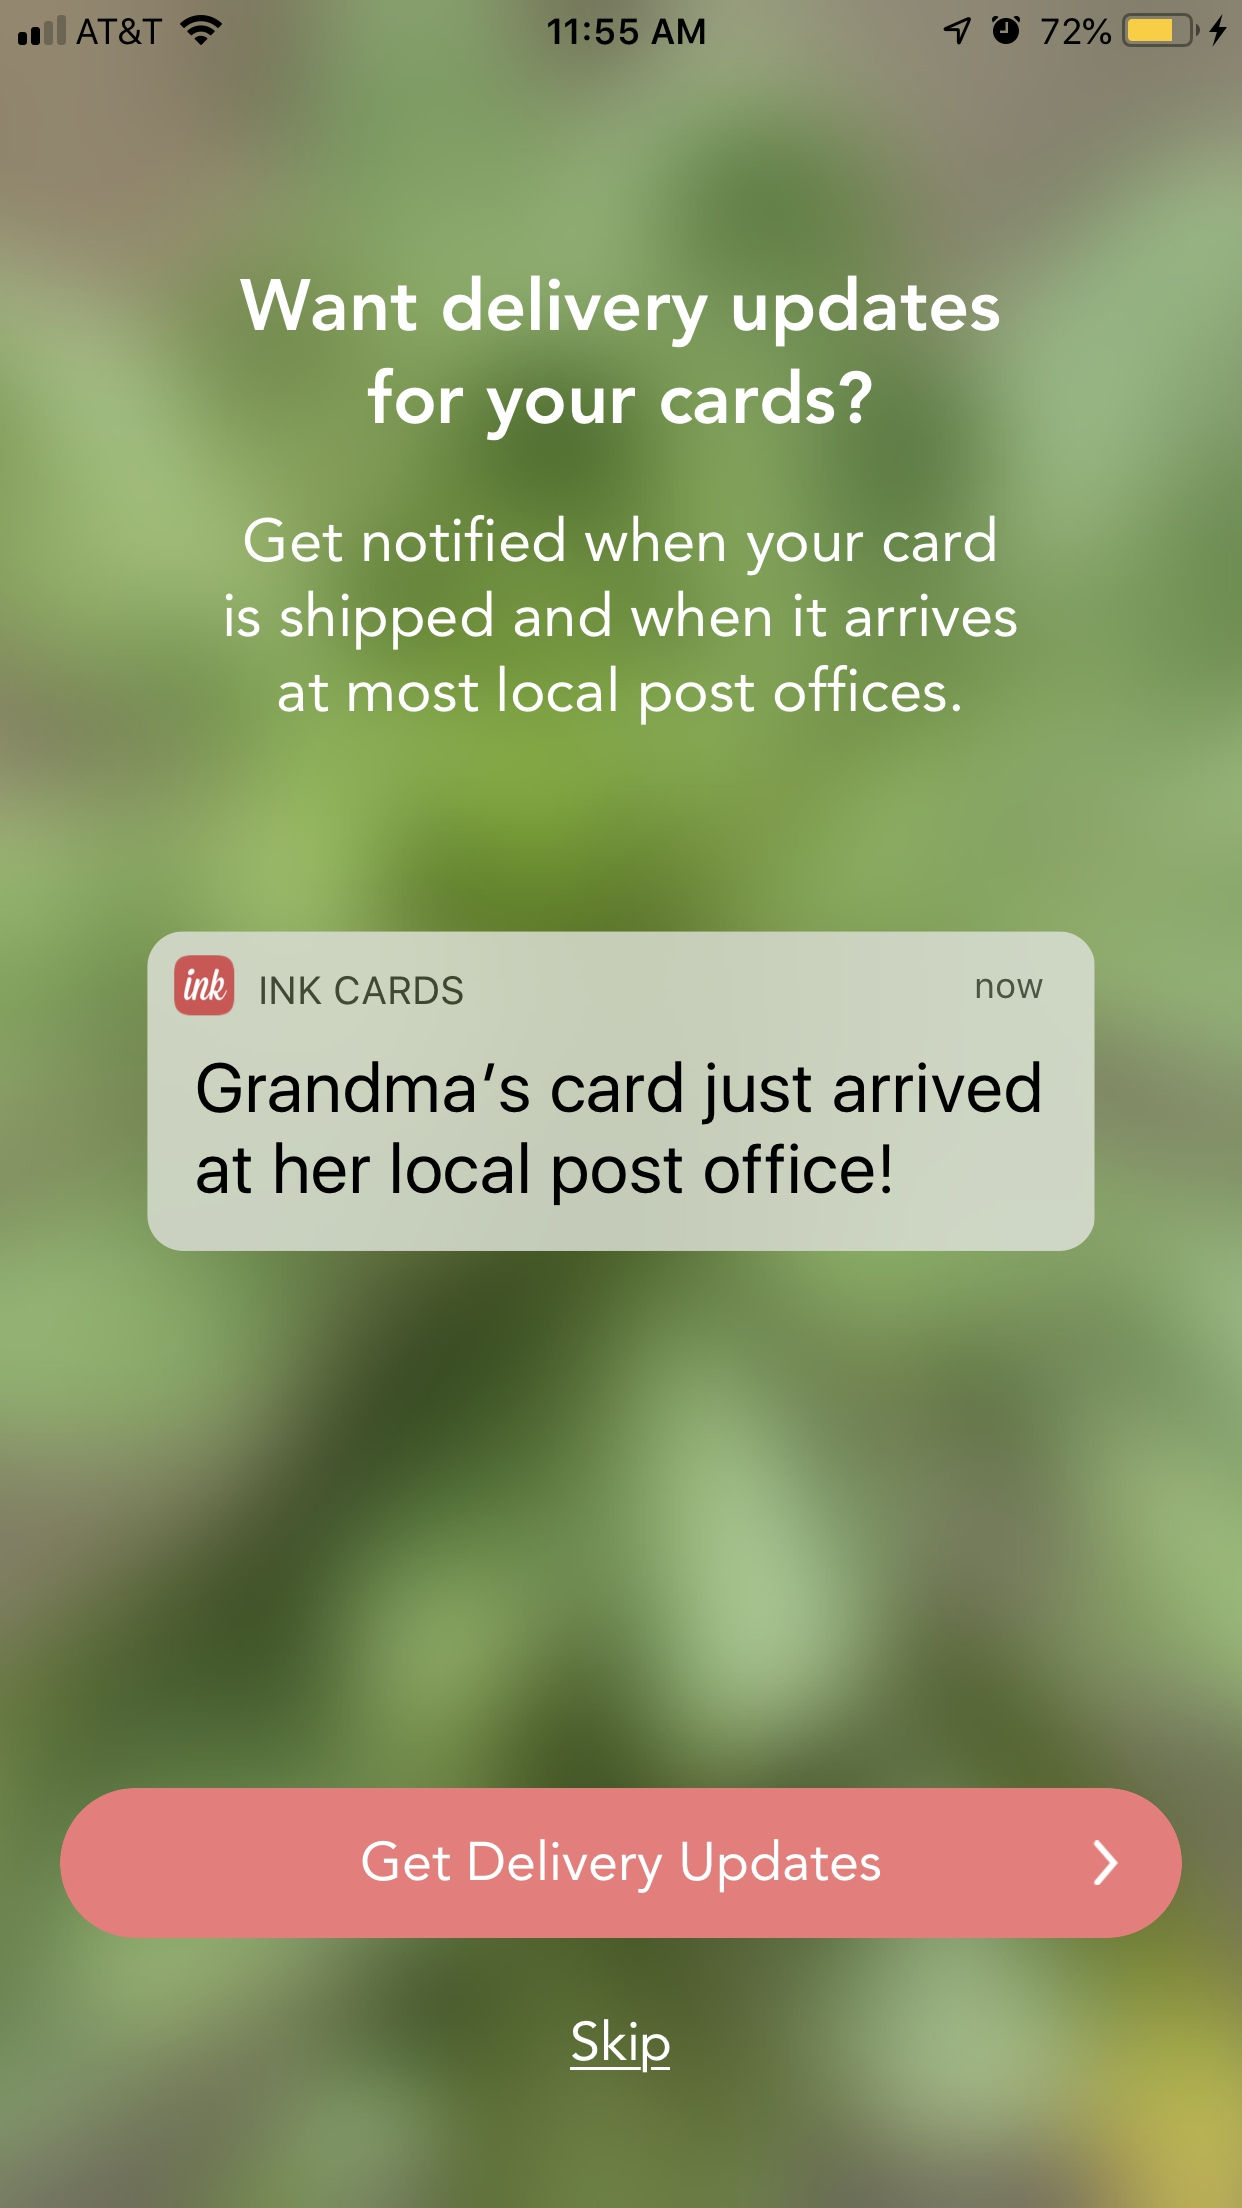Image: (174, 955, 237, 1018)
Text: (224, 514, 1018, 726), (240, 274, 999, 443), (197, 1060, 1040, 1207), (261, 975, 464, 1005), (569, 2018, 670, 2073), (977, 978, 1043, 999)
TextButton: (61, 1786, 1183, 1940)
UpperTaskBar: (2, 2, 1242, 49)
